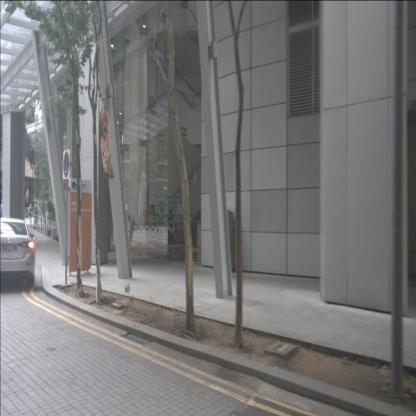human-pedestrian-adult: (0, 199, 6, 235), (34, 202, 38, 226), (28, 203, 32, 224)
vehicle-car: (0, 217, 35, 287)
